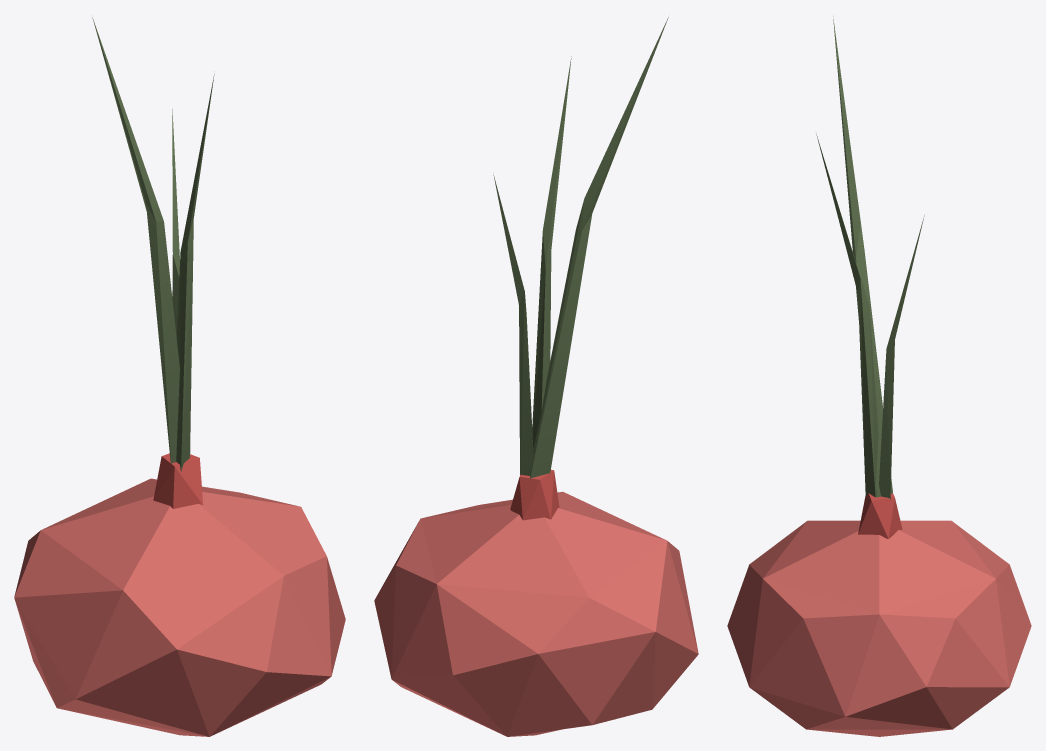
Rendered from Onion_01.fbx.
3 views of the same model, side by side, from view 1: azimuth 30°, elevation 25°; view 2: azimuth 150°, elevation 25°; view 3: azimuth 270°, elevation 25° (orthographic). The views are drawn at different scales.
Parts seen in each view (by area): view 1: Onion_01; view 2: Onion_01; view 3: Onion_01.
Part boxes in pixels (x1,y1,x2,y2): Onion_01: (14, 17, 345, 736); Onion_01: (374, 17, 698, 736); Onion_01: (727, 16, 1031, 736).
Size of the model in its own units: 13.12 by 32.93 by 13.48.
